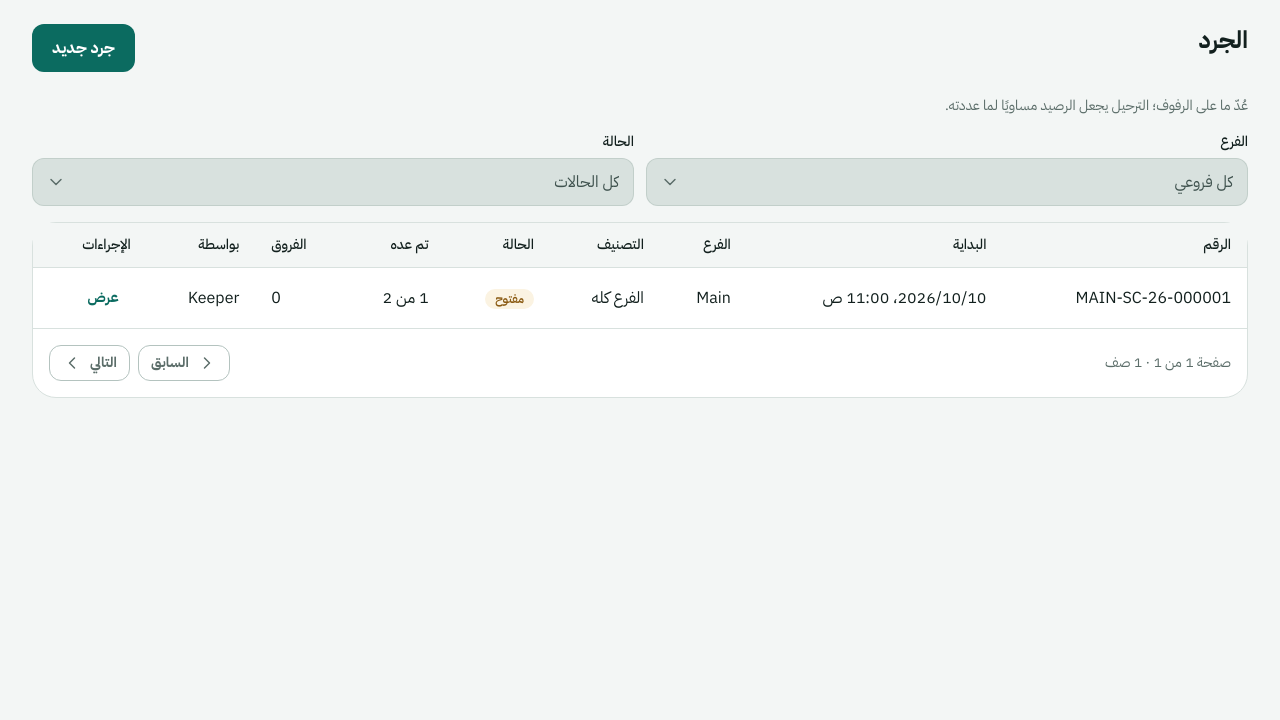
Test: I02 counts list › lists counts and starts a new one (ar)
Expected: the text "مفتوح" is shown, [485,289,534,309]
Expected: the text "الفرع كله" is shown, [550,268,660,328]
Click the button "جرد جديد" at (83,48), box [32,24,135,72]
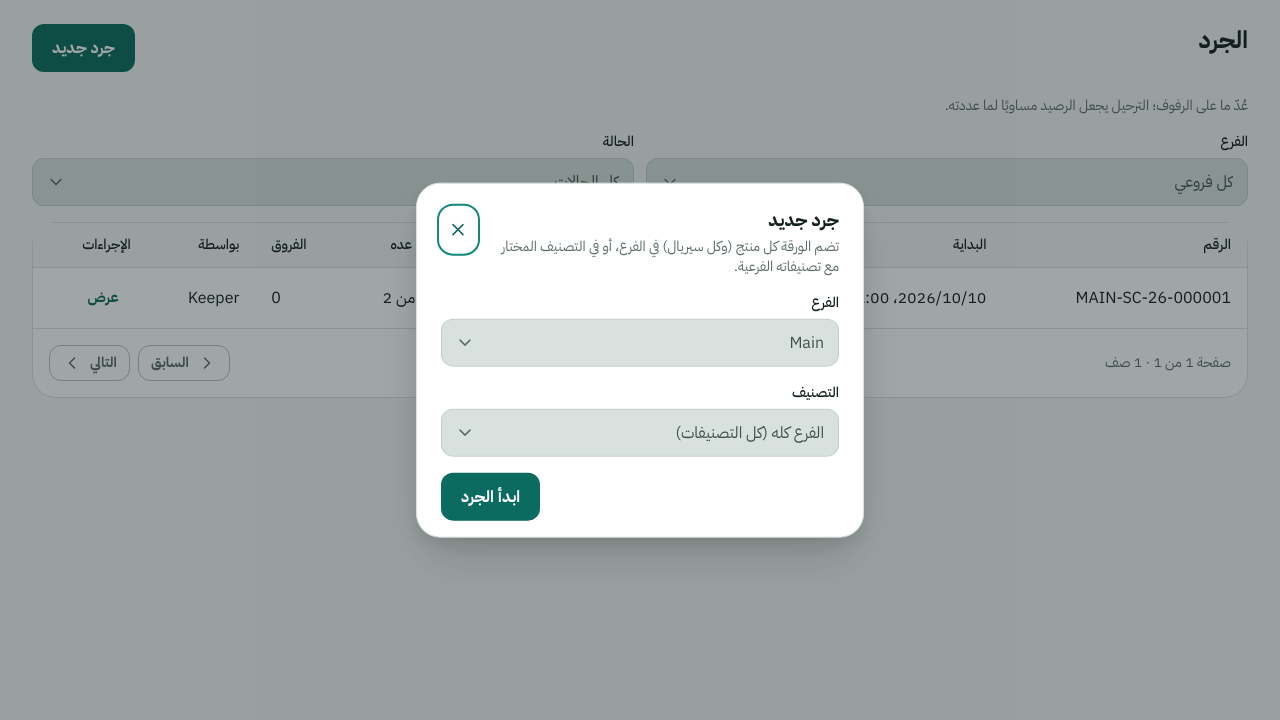
Click the button "ابدأ الجرد" at (491,496), box [441,472,540,520]
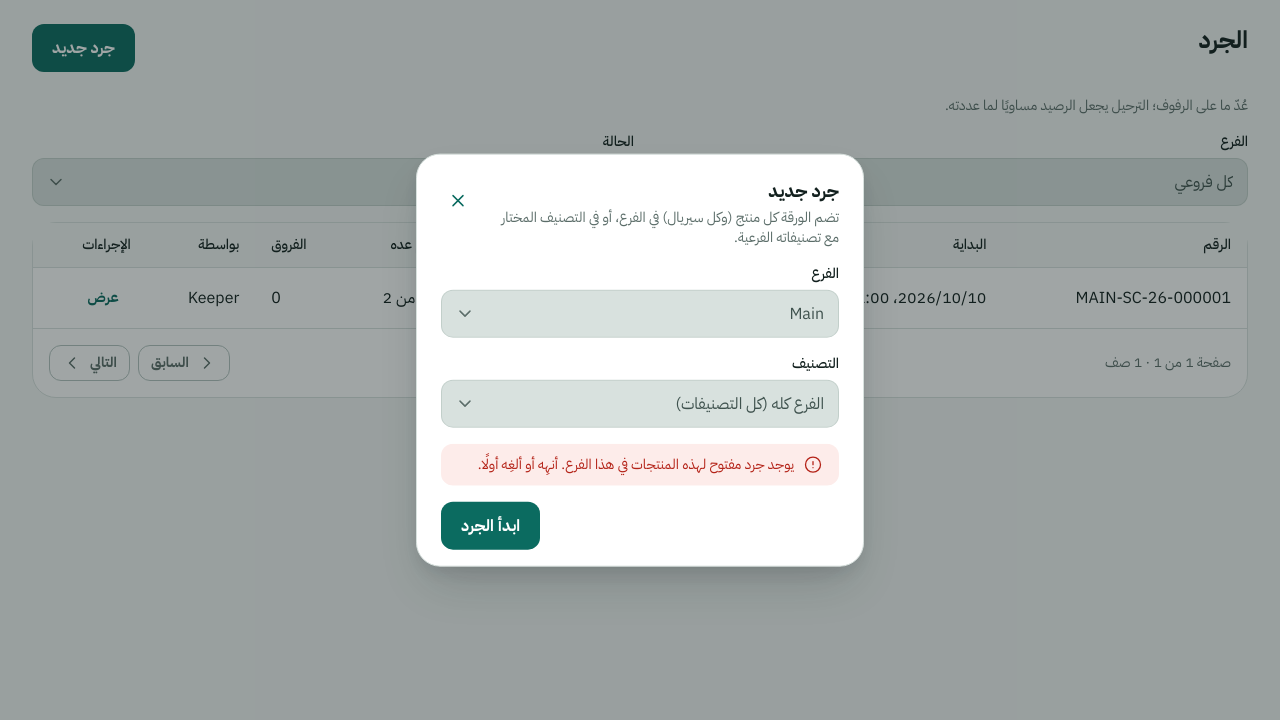
Now the text "يوجد جرد مفتوح لهذه المنتجات في هذا الفرع. أنهِه أو ألغِه أولًا." is shown, box [478,454,794,474]
